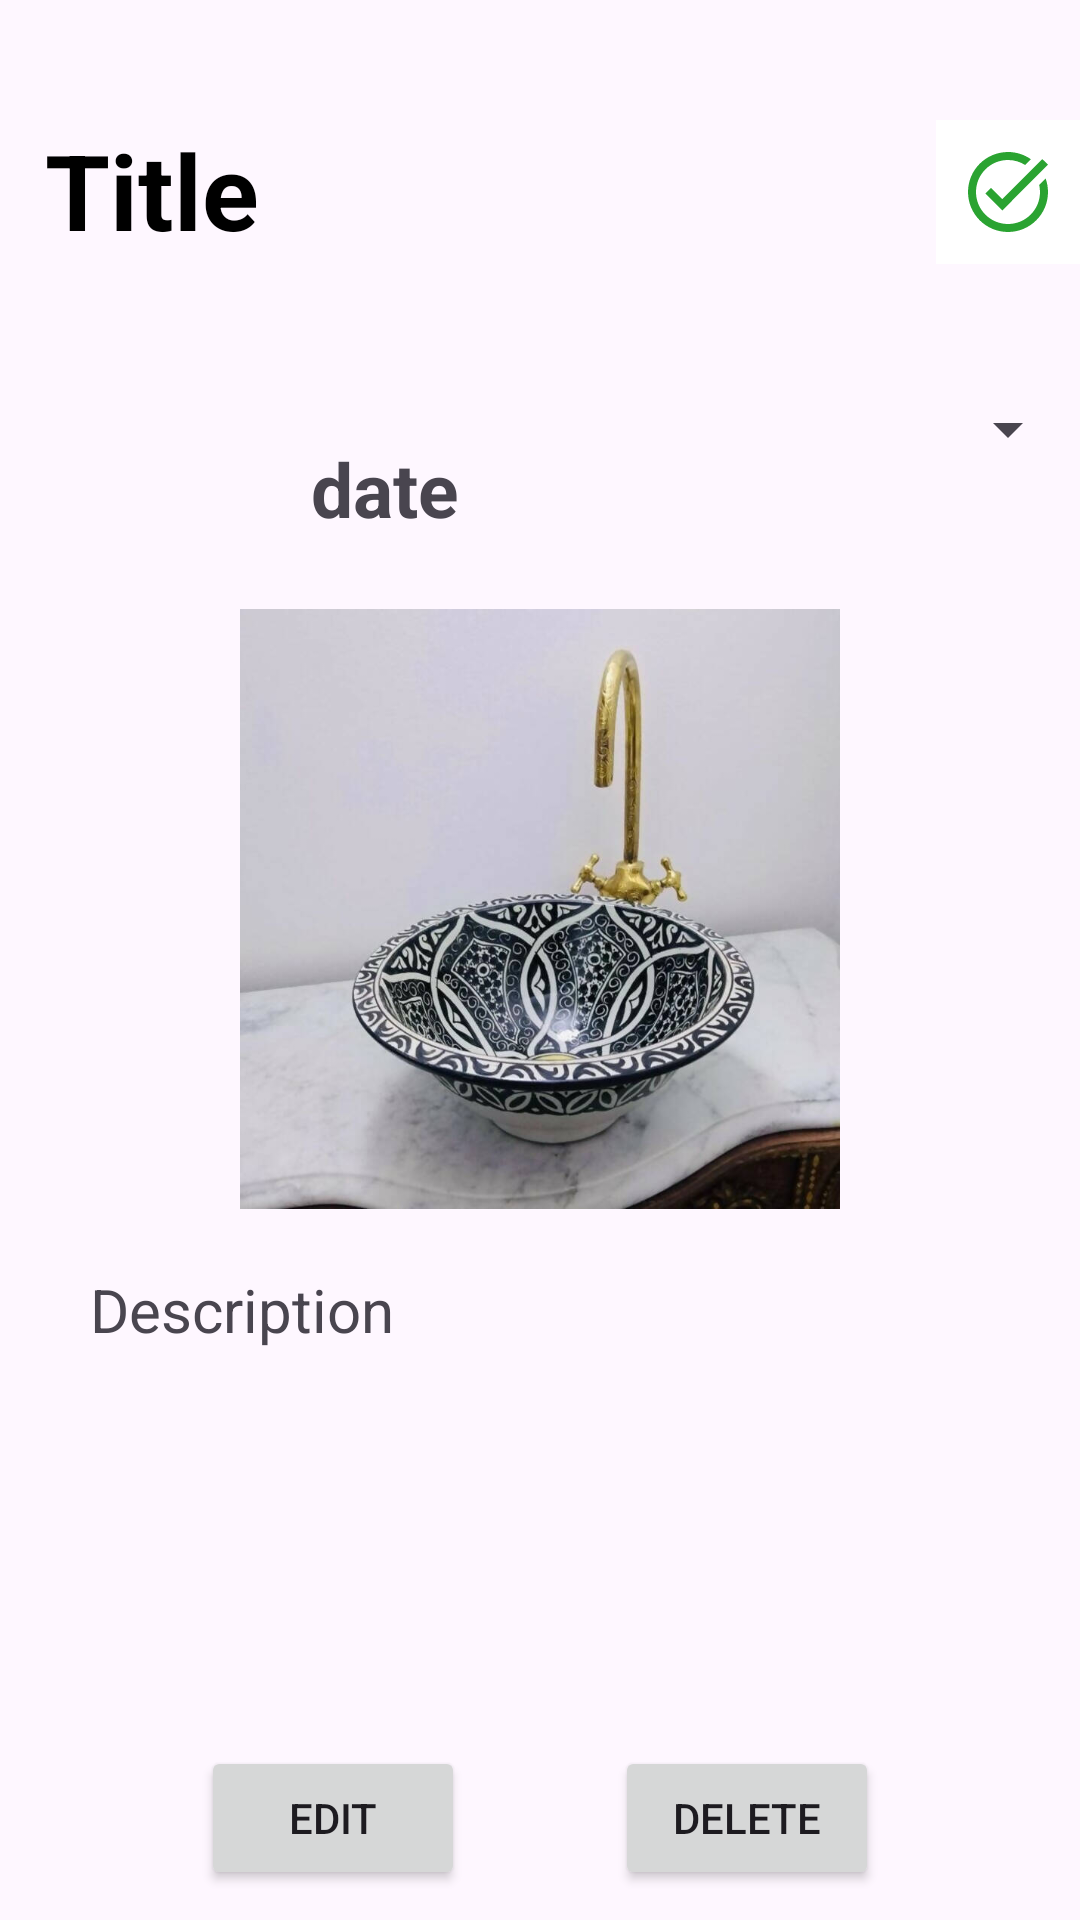

Locate icon controls on the screen. Image size 1080w x 1920h, boxes as (x1, y1, x2, y2).
task: (968, 152, 1048, 232)
